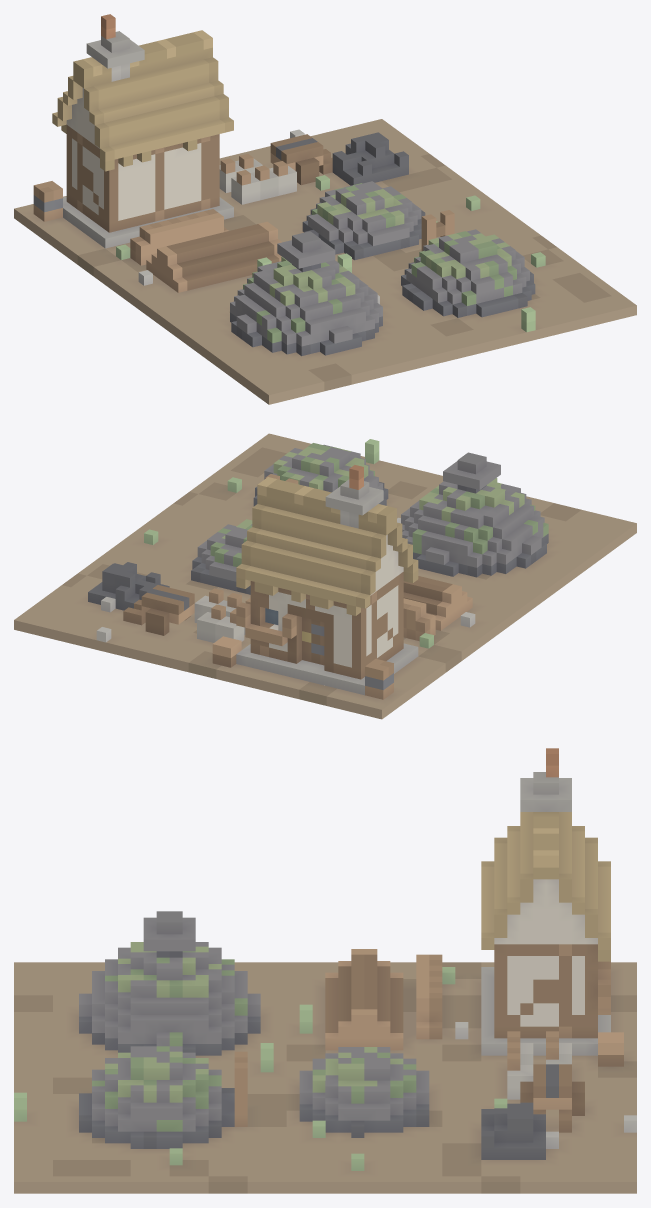
File: charcoal_burner.glb
3 views of the same model, one above another, from view 1: azimuth 30°, elevation 25°; view 2: azimuth 150°, elevation 25°; view 3: azimuth 270°, elevation 25° (orthographic). The views are drawn at different scales.
Visible parts, largest first — view 1: charcoal_burner; view 2: charcoal_burner; view 3: charcoal_burner.
Part boxes in pixels (left/top/right/bottom): charcoal_burner: left=14, top=14, right=636, bottom=404; charcoal_burner: left=14, top=433, right=636, bottom=719; charcoal_burner: left=14, top=748, right=636, bottom=1193.
Size of the model in its own units: 5 by 2.75 by 6.
